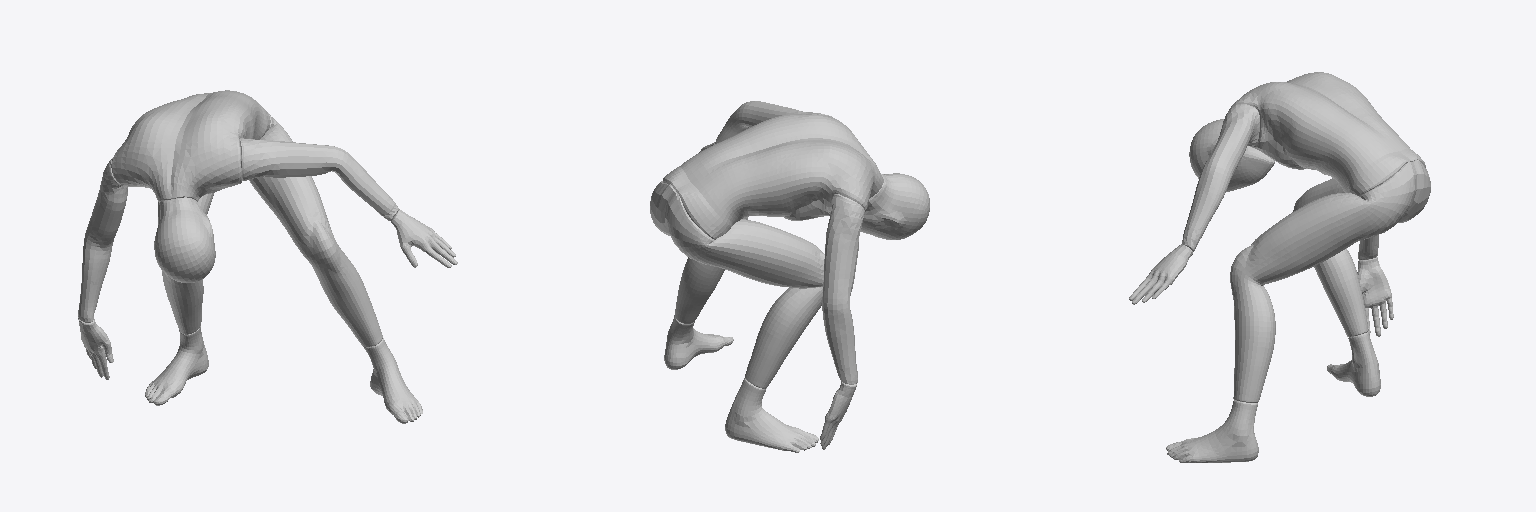
The model's file is standup64.obj.
3 renders of one model, left to right at view 1: azimuth 30°, elevation 25°; view 2: azimuth 150°, elevation 25°; view 3: azimuth 270°, elevation 25°, orthographic.
Parts seen in each view (by area): view 1: Ch36; view 2: Ch36; view 3: Ch36.
Boxes of the visible parts, box(x1,y1,x2,y2) form: Ch36: box(78, 90, 457, 423); Ch36: box(650, 101, 929, 452); Ch36: box(1129, 72, 1430, 462).
Bounding box in the file's own units: 0.8342 × 0.9036 × 0.8238.